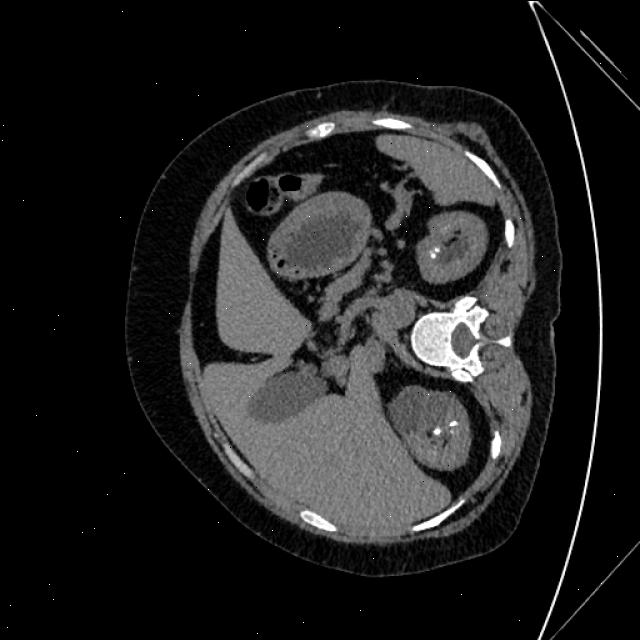kidneystone: (430, 248, 439, 258), (432, 428, 441, 435), (449, 419, 458, 426)
